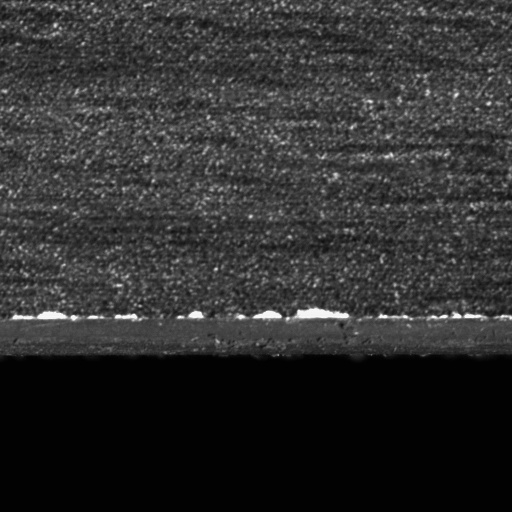huashang: (10, 309, 75, 323), (294, 310, 349, 319), (253, 309, 291, 319), (187, 310, 205, 318)
